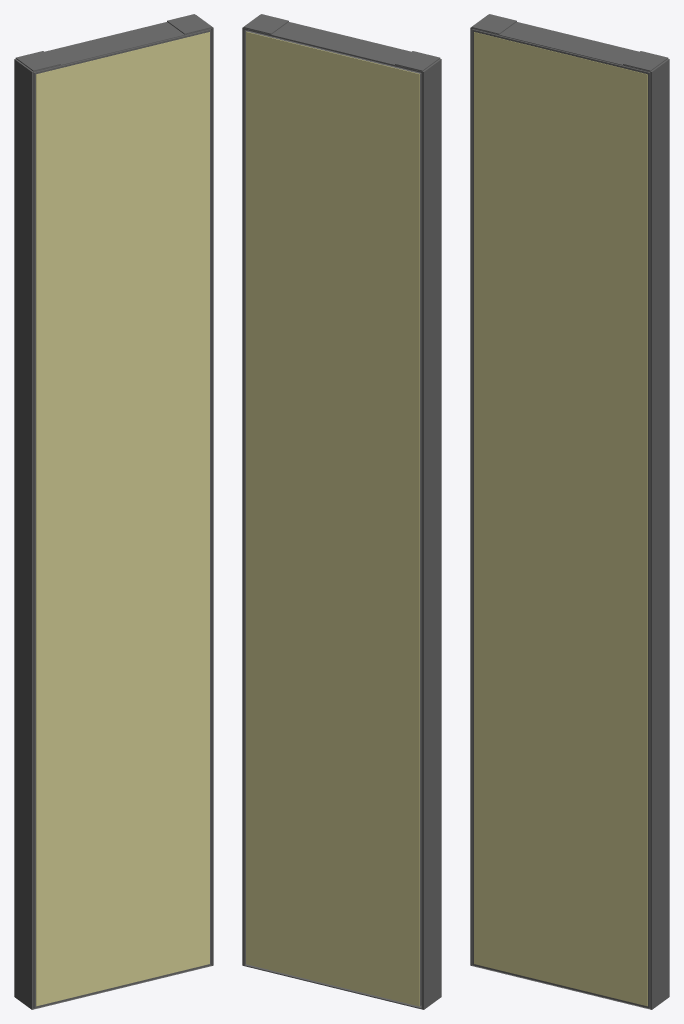
File: Quarter Panel Half Height.glb
3 views of the same model, side by side, from view 1: azimuth 30°, elevation 25°; view 2: azimuth 150°, elevation 25°; view 3: azimuth 330°, elevation 25° (orthographic).
Parts seen in each view (by area): view 1: Standard 9.001; view 2: toggle_back_panel.006, Standard 9.001; view 3: Standard 9.001.
Boxes of the visible parts, <box> form: Standard 9.001: <box>14,14,213,1009</box>; toggle_back_panel.006: <box>246,31,419,1006</box>; Standard 9.001: <box>242,14,441,1009</box>; Standard 9.001: <box>470,14,669,1009</box>.
Bounding box in the file's own units: 0.241 × 1.19 × 0.042.
